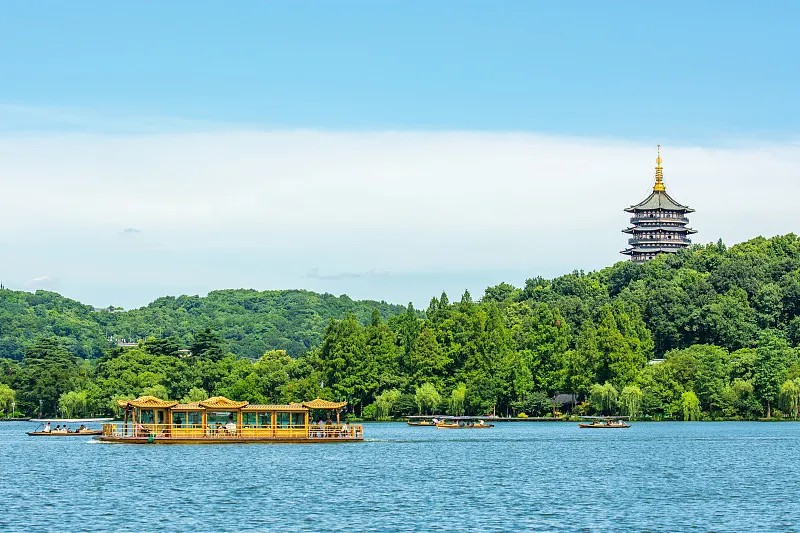Leifeng: (618, 141, 697, 264)
